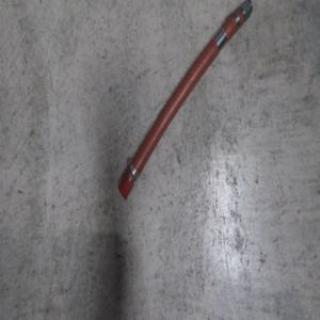Hosetrack_idkeyframe: (115, 1, 254, 202)
